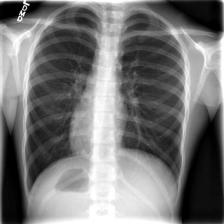normal: (19, 2, 186, 200)
